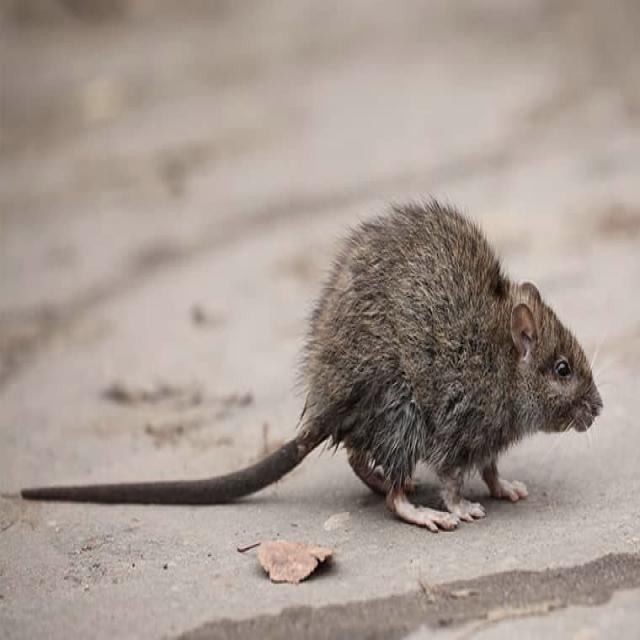rat: (23, 199, 603, 531)
